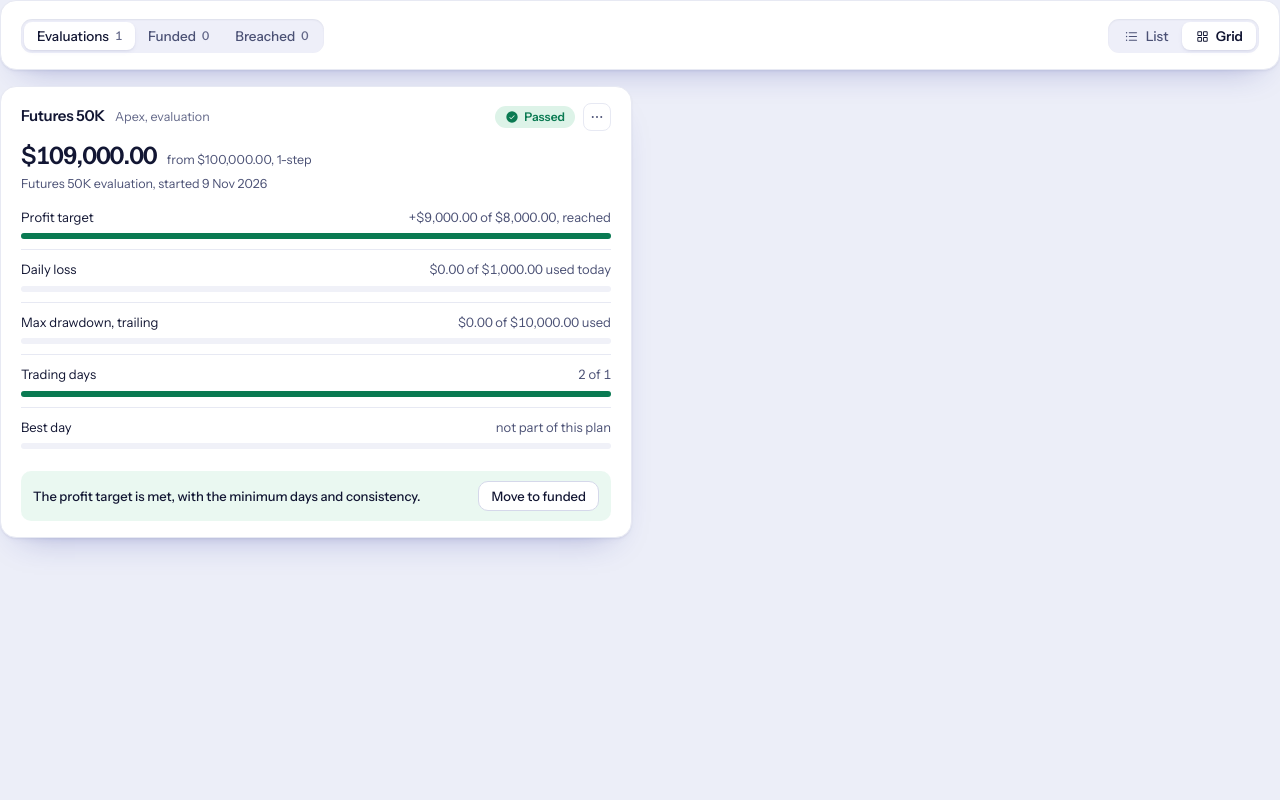
it: the card has one live region, and a failed Move to funded says so in its dialog
The width and height of the screenshot is (1280, 800).
What coordinates should you click on to do the following:
click the button "Move to funded"
I would click on:
 (539, 496)
Its box is [478,481,599,511].
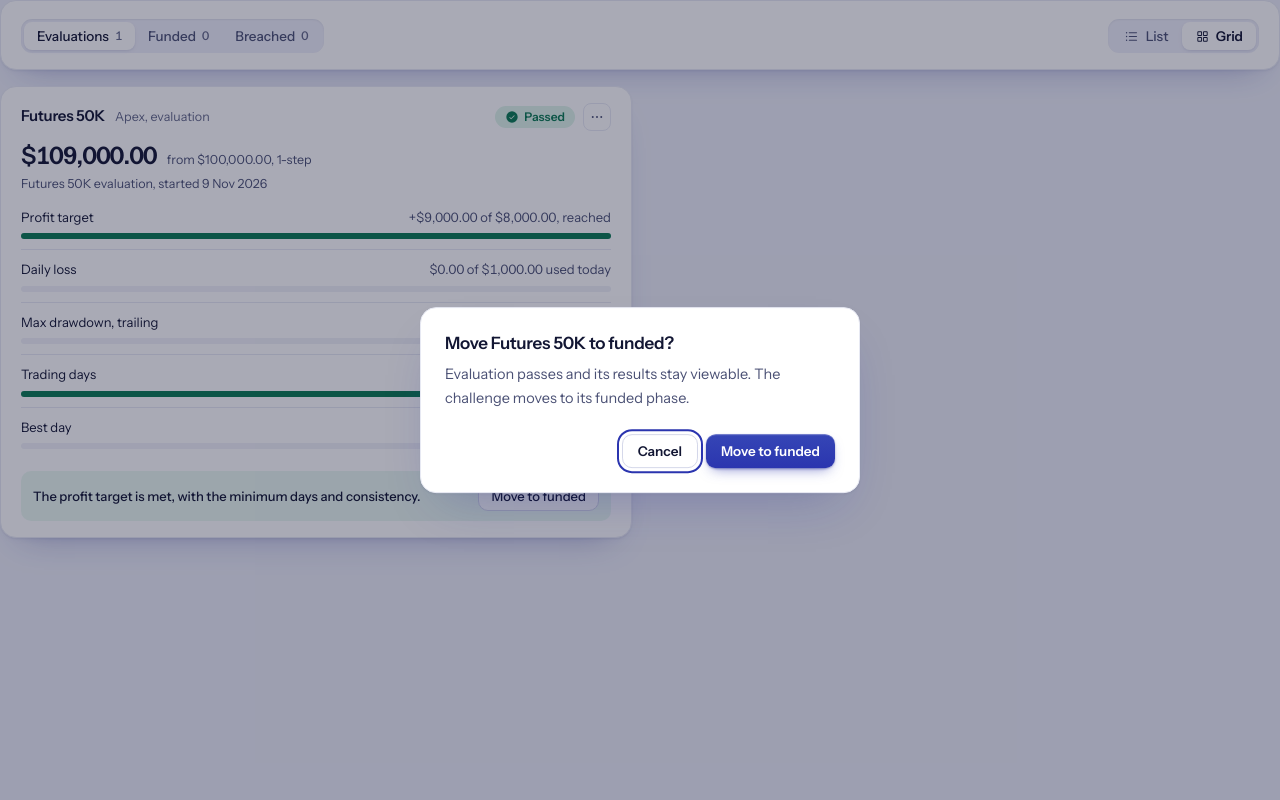
What coordinates should you click on to do the following:
click the button "Move to funded"
I would click on:
 (770, 451)
Its box is [706,434,835,468].
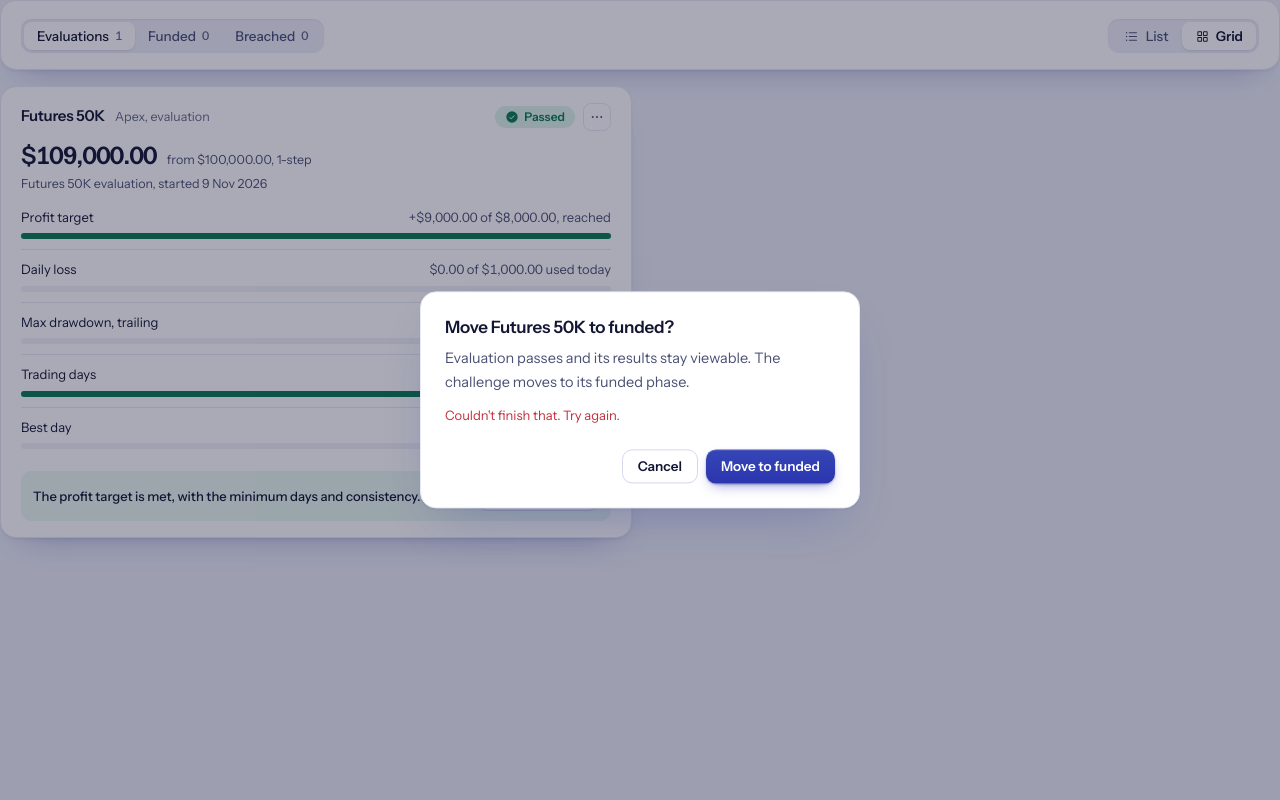
Now the message "Couldn't finish that. Try again." is shown, box [445,407,620,423]
